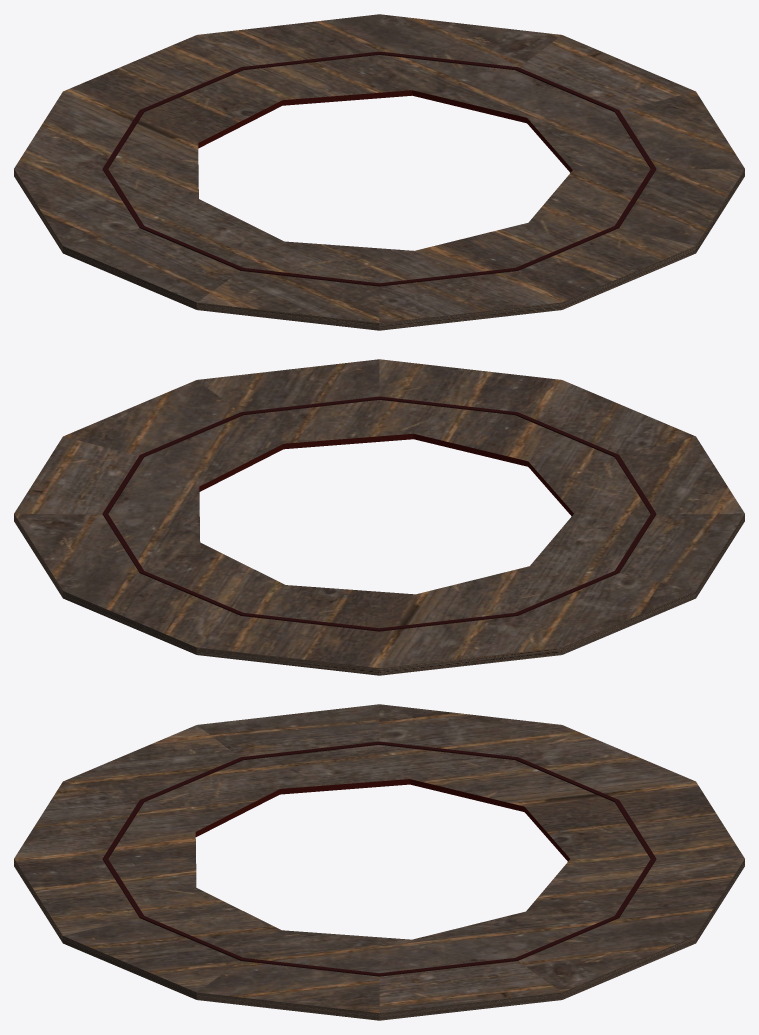
Rendered from Podłoga3.fbx.
3 views of the same model, one above another, from view 1: azimuth 30°, elevation 25°; view 2: azimuth 150°, elevation 25°; view 3: azimuth 270°, elevation 25° (orthographic).
Parts seen in each view (by area): view 1: Cylinder.008, Cylinder.012; view 2: Cylinder.008, Cylinder.012; view 3: Cylinder.008, Cylinder.012.
Part boxes in pixels (x1,y1,x2,y2): Cylinder.008: (14,14,744,330); Cylinder.012: (102,51,656,286); Cylinder.008: (14,359,744,675); Cylinder.012: (102,396,656,631); Cylinder.008: (14,704,744,1020); Cylinder.012: (102,741,656,976).
Bounding box in the file's own units: 20.11 × 0.2359 × 20.11.
